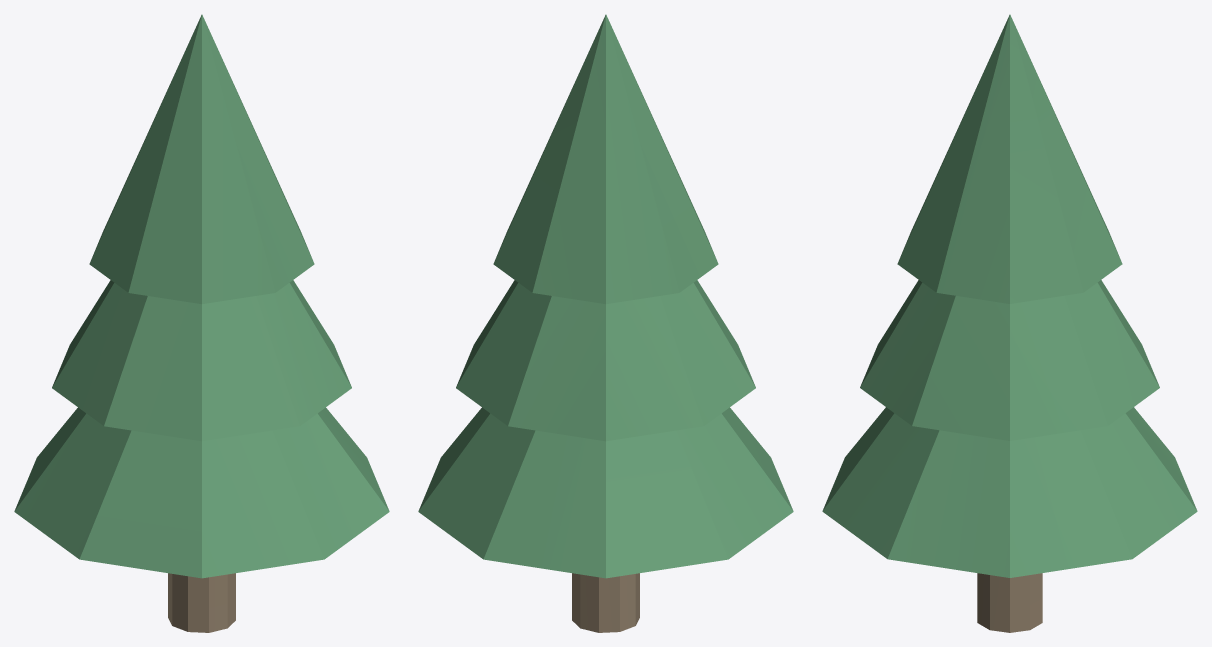
The model's file is pine-08.glb.
3 views of the same model, side by side, from view 1: azimuth 30°, elevation 25°; view 2: azimuth 150°, elevation 25°; view 3: azimuth 270°, elevation 25° (orthographic).
Parts seen in each view (by area): view 1: world; view 2: world; view 3: world.
Part boxes in pixels (<box>): world: <box>14,14,389,632</box>; world: <box>418,14,793,632</box>; world: <box>822,14,1197,632</box>.
Size of the model in its own units: 0.9698 by 1.75 by 0.9848.
